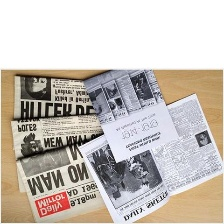news_paper: (73, 91, 224, 223), (80, 67, 181, 165), (11, 138, 116, 224), (7, 112, 111, 198), (8, 70, 104, 138)
